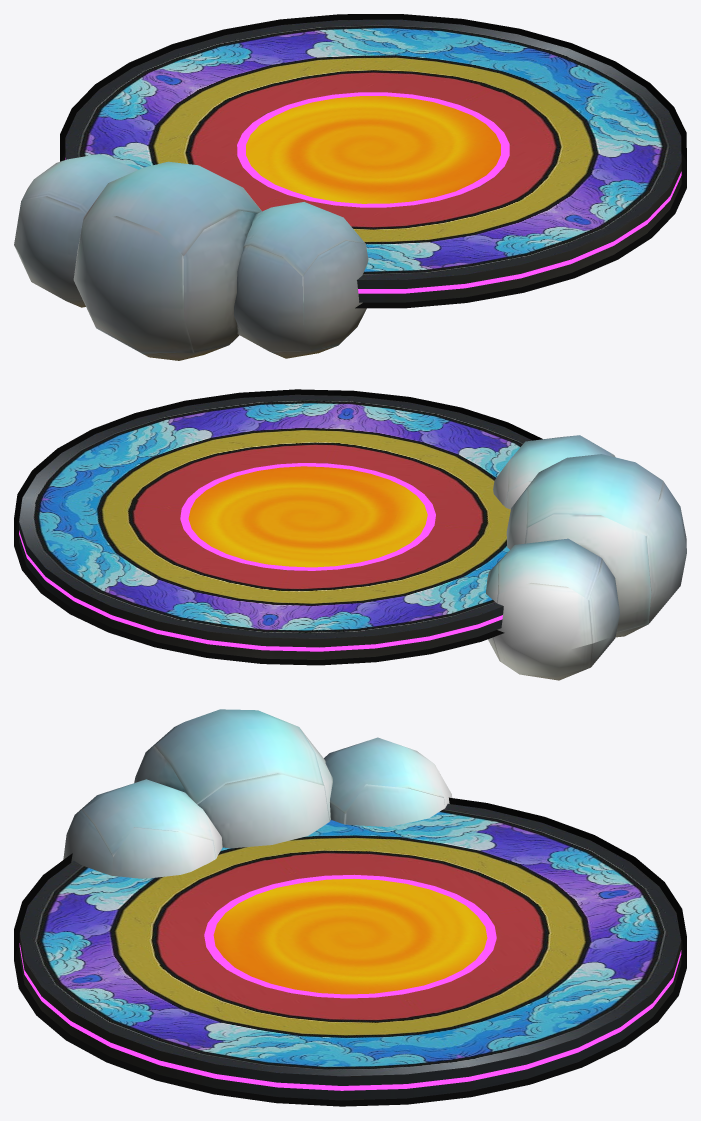
File: circlePlatformAnime.glb
The picture shows the model from 3 angles, top to bottom: view 1: azimuth 30°, elevation 25°; view 2: azimuth 150°, elevation 25°; view 3: azimuth 270°, elevation 25°; orthographic projection. The views are drawn at different scales.
Visible parts, largest first — view 1: circularPlatform; view 2: circularPlatform; view 3: circularPlatform.
Boxes of the visible parts, <box> form: circularPlatform: <box>14,14,686,360</box>; circularPlatform: <box>14,389,686,680</box>; circularPlatform: <box>14,709,686,1106</box>.
Size of what is drawn, in the model's own units: 4.87 by 1.36 by 4.33.
Materials: 3 (1 with a texture image).
